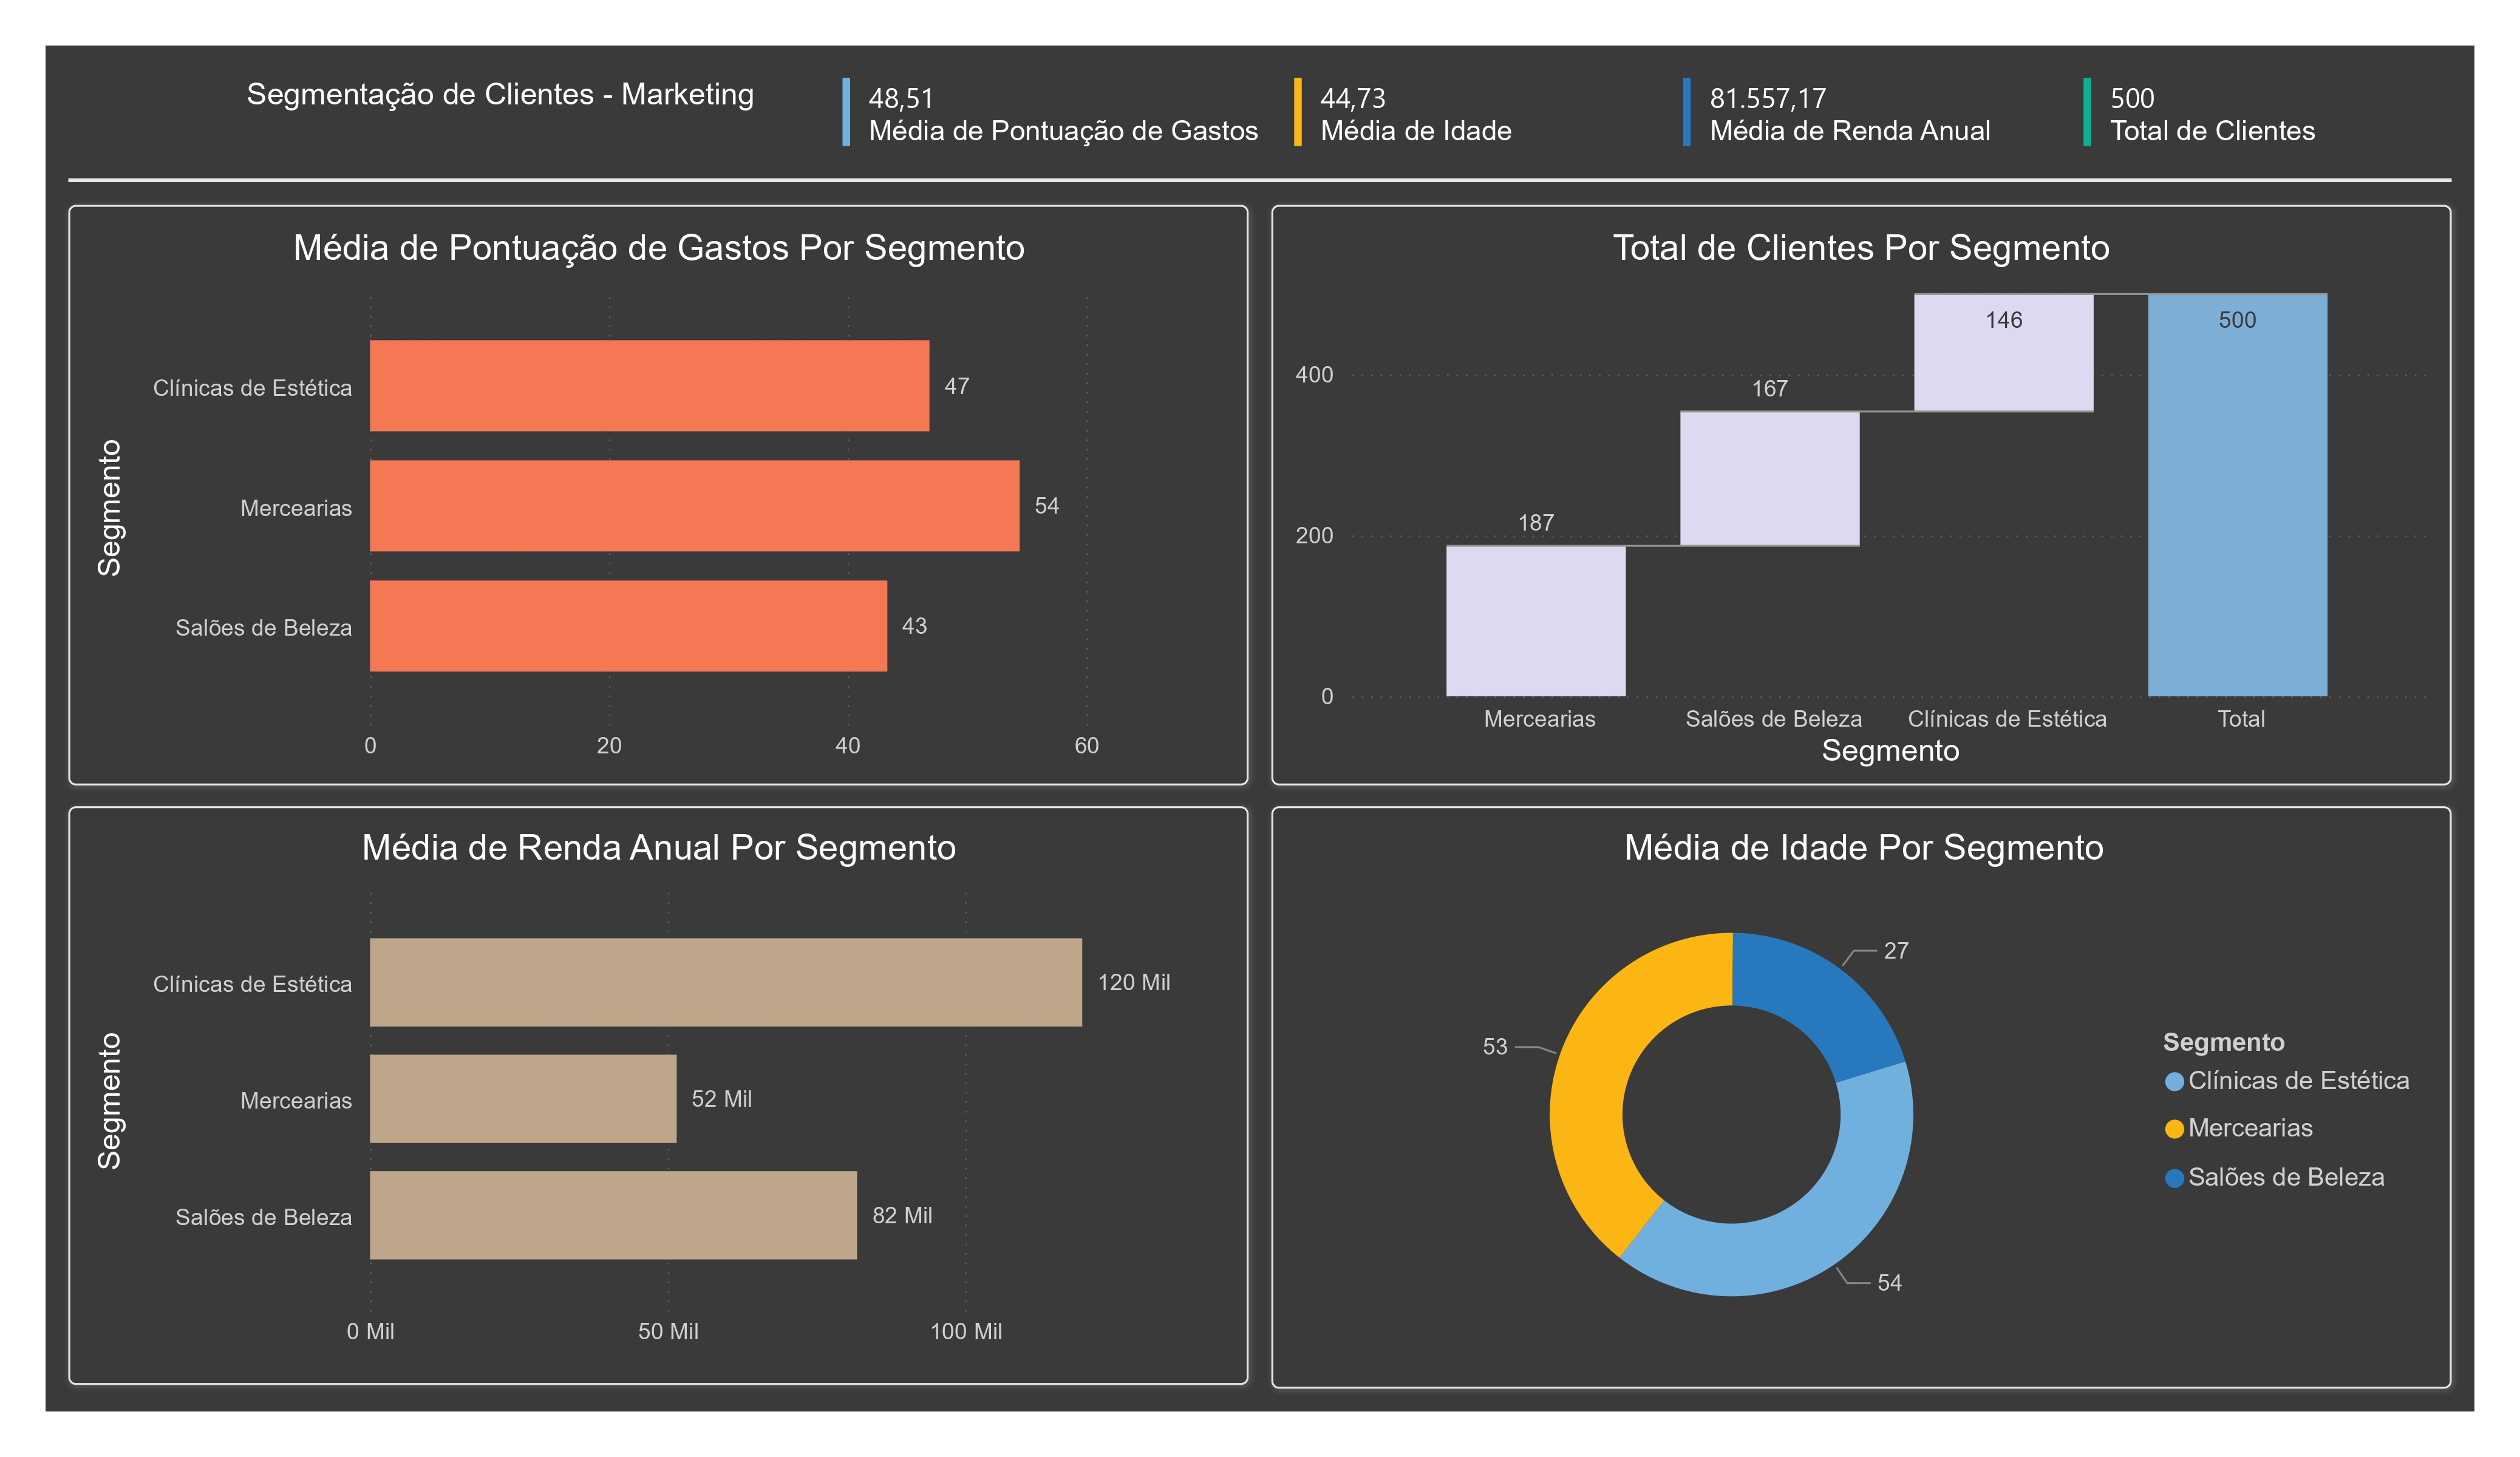

Layout of this report page (visuals, bound fields, positions):
{"tool":"powerbi","page":{"name":"Dash","canvas":[1280,720],"ordinal":0},"visuals":[{"type":"shape","box":[12,58,1256,26],"z":0},{"type":"shape","box":[12.3,83.5,621.5,306.7],"z":1000},{"type":"shape","box":[646,84,622,306],"z":2000},{"type":"shape","box":[12.3,401.1,621.5,305.3],"z":3000},{"type":"shape","box":[646.2,401.1,621.5,306.7],"z":4000},{"type":"clusteredBarChart","title":"Média de Renda Anual Por Segmento","fields":{"Y":["Avg(Table.renda_anual)"],"Category":["Clientes.Segmentos"]},"box":[20.5,412.1,605.1,282],"z":5000},{"type":"donutChart","title":"Média de Idade Por Segmento","fields":{"Y":["Clientes.Média de Idade"],"Category":["Clientes.Segmentos"]},"box":[655.7,412.1,605.1,282],"z":6000},{"type":"clusteredBarChart","title":"Média de Pontuação de Gastos Por Segmento","fields":{"Y":["Avg(Table.pontuacao_gastos)"],"Category":["Clientes.Segmentos"]},"box":[20.5,95.8,605.1,288.9],"z":7000},{"type":"multiRowCard","fields":{"Values":["CountNonNull(Table.id)"]},"box":[1069,12,199,50],"z":8000},{"type":"multiRowCard","fields":{"Values":["Avg(Table.renda_anual)"]},"box":[858,12,199,50],"z":9000},{"type":"multiRowCard","fields":{"Values":["Avg(Table.idade)"]},"box":[653,12.3,198.5,49.3],"z":10000},{"type":"multiRowCard","fields":{"Values":["Avg(Table.pontuacao_gastos)"]},"box":[414.8,12.3,231.4,49.3],"z":11000},{"type":"textbox","box":[100.9,12.1,282,38.8],"z":12000},{"type":"waterfallChart","title":"Total de Clientes Por Segmento","fields":{"Y":["CountNonNull(Clientes.id)"],"Category":["Clientes.Segmentos"]},"box":[653,95.8,607.8,288.9],"z":14000}]}

Visuals, with their boxes in screenshot pixels (x1, y1, x2, y2):
shape: (68, 155, 2452, 205)
shape: (69, 204, 1248, 786)
shape: (1272, 205, 2452, 786)
shape: (69, 806, 1248, 1386)
shape: (1272, 806, 2451, 1388)
"Média de Renda Anual Por Segmento" clusteredBarChart: (84, 827, 1233, 1362)
"Média de Idade Por Segmento" donutChart: (1290, 827, 2438, 1362)
"Média de Pontuação de Gastos Por Segmento" clusteredBarChart: (84, 227, 1233, 775)
multiRowCard - CountNonNull(Table.id): (2074, 68, 2452, 163)
multiRowCard - Avg(Table.renda_anual): (1674, 68, 2051, 163)
multiRowCard - Avg(Table.idade): (1285, 69, 1661, 163)
multiRowCard - Avg(Table.pontuacao_gastos): (833, 69, 1272, 163)
textbox: (237, 69, 772, 142)
"Total de Clientes Por Segmento" waterfallChart: (1285, 227, 2438, 775)
